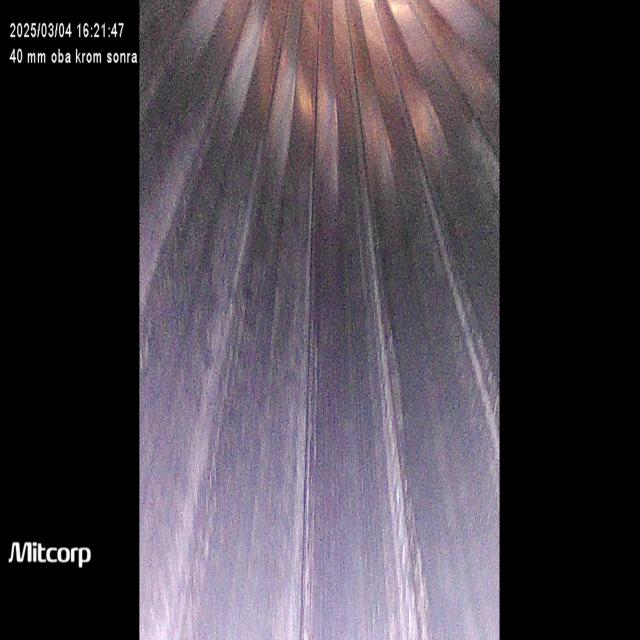hata_8.2: (168, 243, 278, 462)
